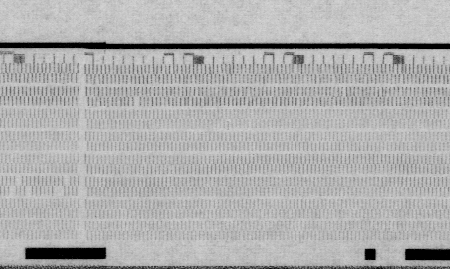Broken hole: (7, 175, 33, 196), (51, 174, 69, 195), (131, 96, 141, 108)
Oblique printing: (222, 119, 235, 132)
